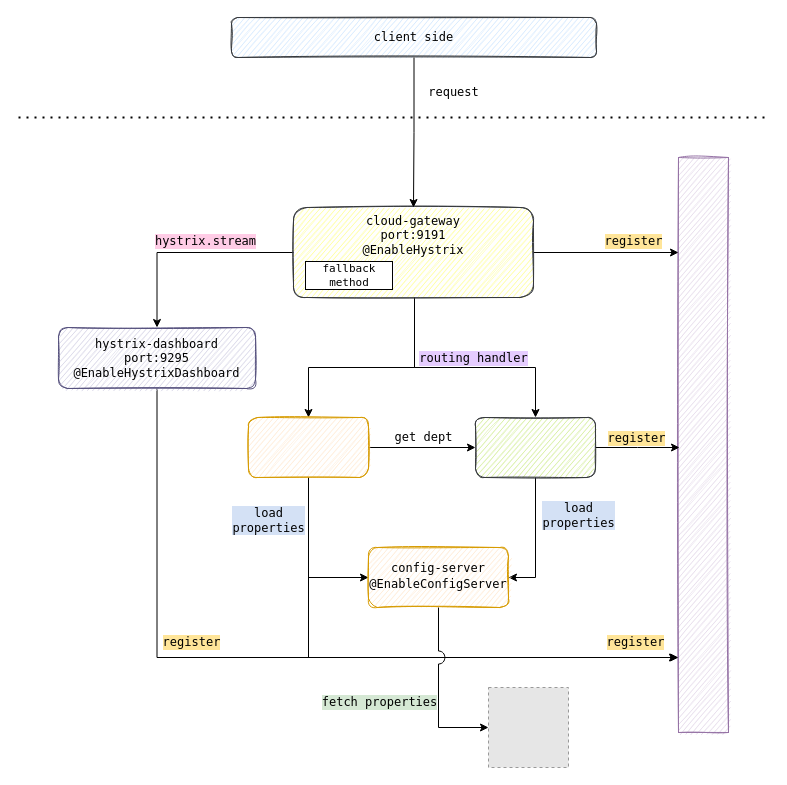
Image size: 787x785. Some labels were removed from this diagram. Grey dashed boxes stand in for pictures. Here are the shapes that lost their labels. From the top down, the centre of each, then its label:
At [308,447]: "user-service @LoadBalanced".
At [535,447]: "dept-service".
At [703,444]: "service-discovery port:8761".
